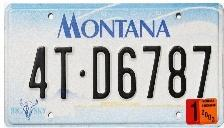4: (27, 44, 51, 100)
6: (116, 45, 140, 99)
7: (141, 45, 163, 101), (191, 44, 213, 99)
8: (167, 44, 189, 101)
D: (90, 43, 113, 102)
T: (53, 45, 75, 101)
